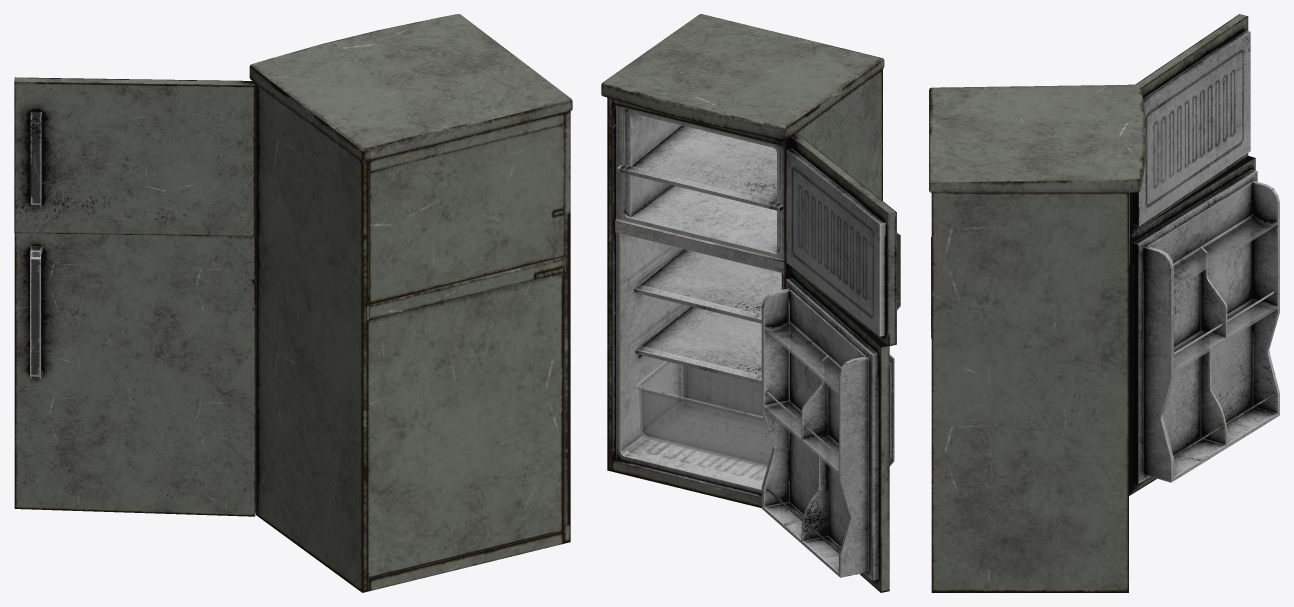
File: kitchen_fridge.glb
The picture shows the model from 3 angles, left to right: view 1: azimuth 30°, elevation 25°; view 2: azimuth 150°, elevation 25°; view 3: azimuth 270°, elevation 25°; orthographic projection. The views are drawn at different scales.
Visible parts, largest first — view 1: polySurface6, Fride_bottomdoor, fridgetop; view 2: polySurface6, Fride_bottomdoor, fridgetop; view 3: polySurface6, Fride_bottomdoor, fridgetop.
Part boxes in pixels (x1,y1,x2,y2): polySurface6: (249,14,572,592); Fride_bottomdoor: (14,232,255,516); fridgetop: (14,77,255,236); polySurface6: (601,14,884,507); Fride_bottomdoor: (761,268,894,592); fridgetop: (786,133,900,345); polySurface6: (929,84,1146,592); Fride_bottomdoor: (1129,156,1279,495); fridgetop: (1129,14,1250,236).
Size of the model in its own units: 1.78 by 1.94 by 1.48.
3 materials, 3 textured.
